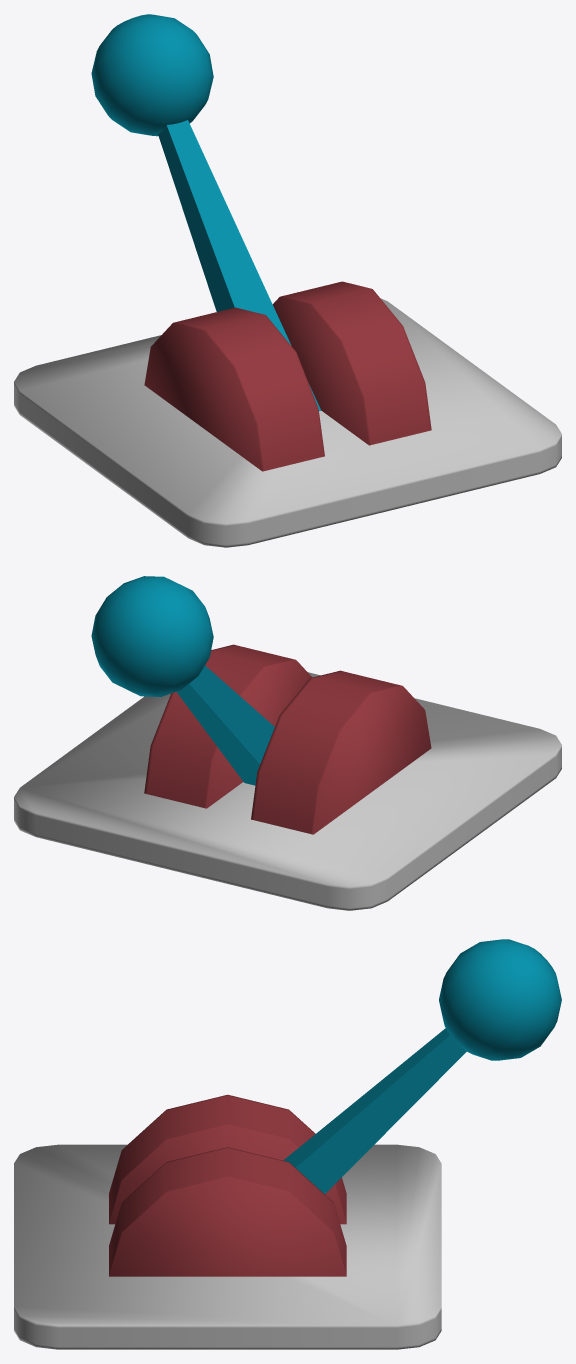
The model's file is palanca.fbx.
The picture shows the model from 3 angles, top to bottom: view 1: azimuth 30°, elevation 25°; view 2: azimuth 150°, elevation 25°; view 3: azimuth 270°, elevation 25°; orthographic projection.
Visible parts, largest first — view 1: Cube, Cylinder.003, Sphere; view 2: Cube, Cylinder.003, Sphere; view 3: Cube, Cylinder.003, Sphere.
Part boxes in pixels (x1=…): Cube: x1=14, y1=298, x2=561, y2=547; Cylinder.003: x1=144, y1=281, x2=431, y2=471; Sphere: x1=91, y1=14, x2=320, y2=411; Cube: x1=14, y1=672, x2=561, y2=910; Cylinder.003: x1=144, y1=644, x2=431, y2=834; Sphere: x1=91, y1=576, x2=274, y2=785; Cube: x1=14, y1=1144, x2=441, y2=1349; Cylinder.003: x1=109, y1=1094, x2=346, y2=1276; Sphere: x1=283, y1=939, x2=561, y2=1193.
Bounding box in the file's own units: 172 × 148 × 221.
